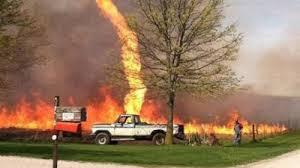fire: (85, 0, 163, 123), (173, 114, 286, 133), (2, 104, 51, 130)
